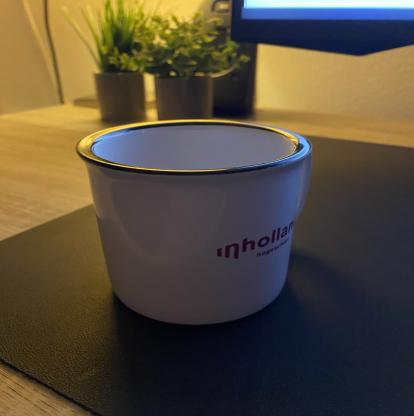Cup: (72, 115, 317, 329)
